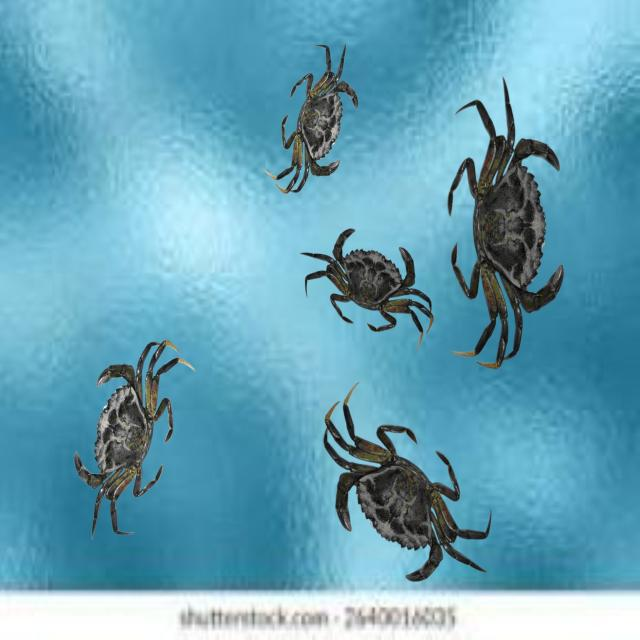European_Green_Crab: (291, 373, 516, 627), (51, 313, 201, 562), (445, 75, 566, 371), (288, 208, 448, 356), (260, 24, 377, 216)
